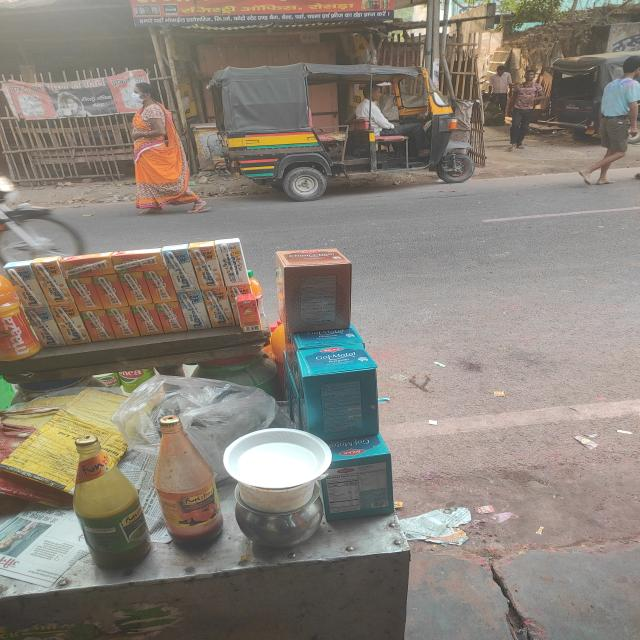Bike: (0, 154, 100, 272)
tempo: (202, 43, 490, 213), (527, 28, 640, 166)
